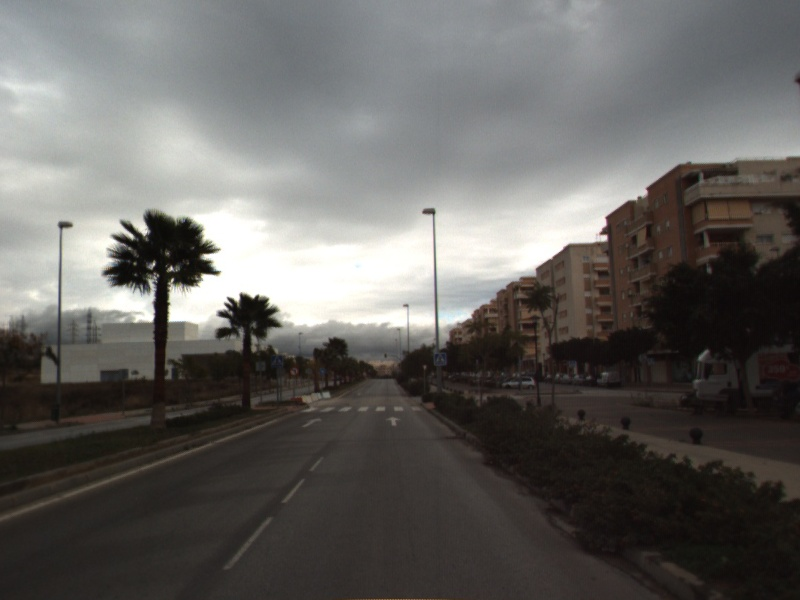STRAIGHT: (300, 416, 324, 429), (384, 414, 403, 428)
